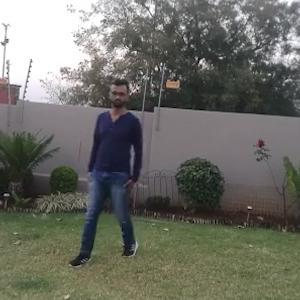follow: (93, 75, 158, 266)
